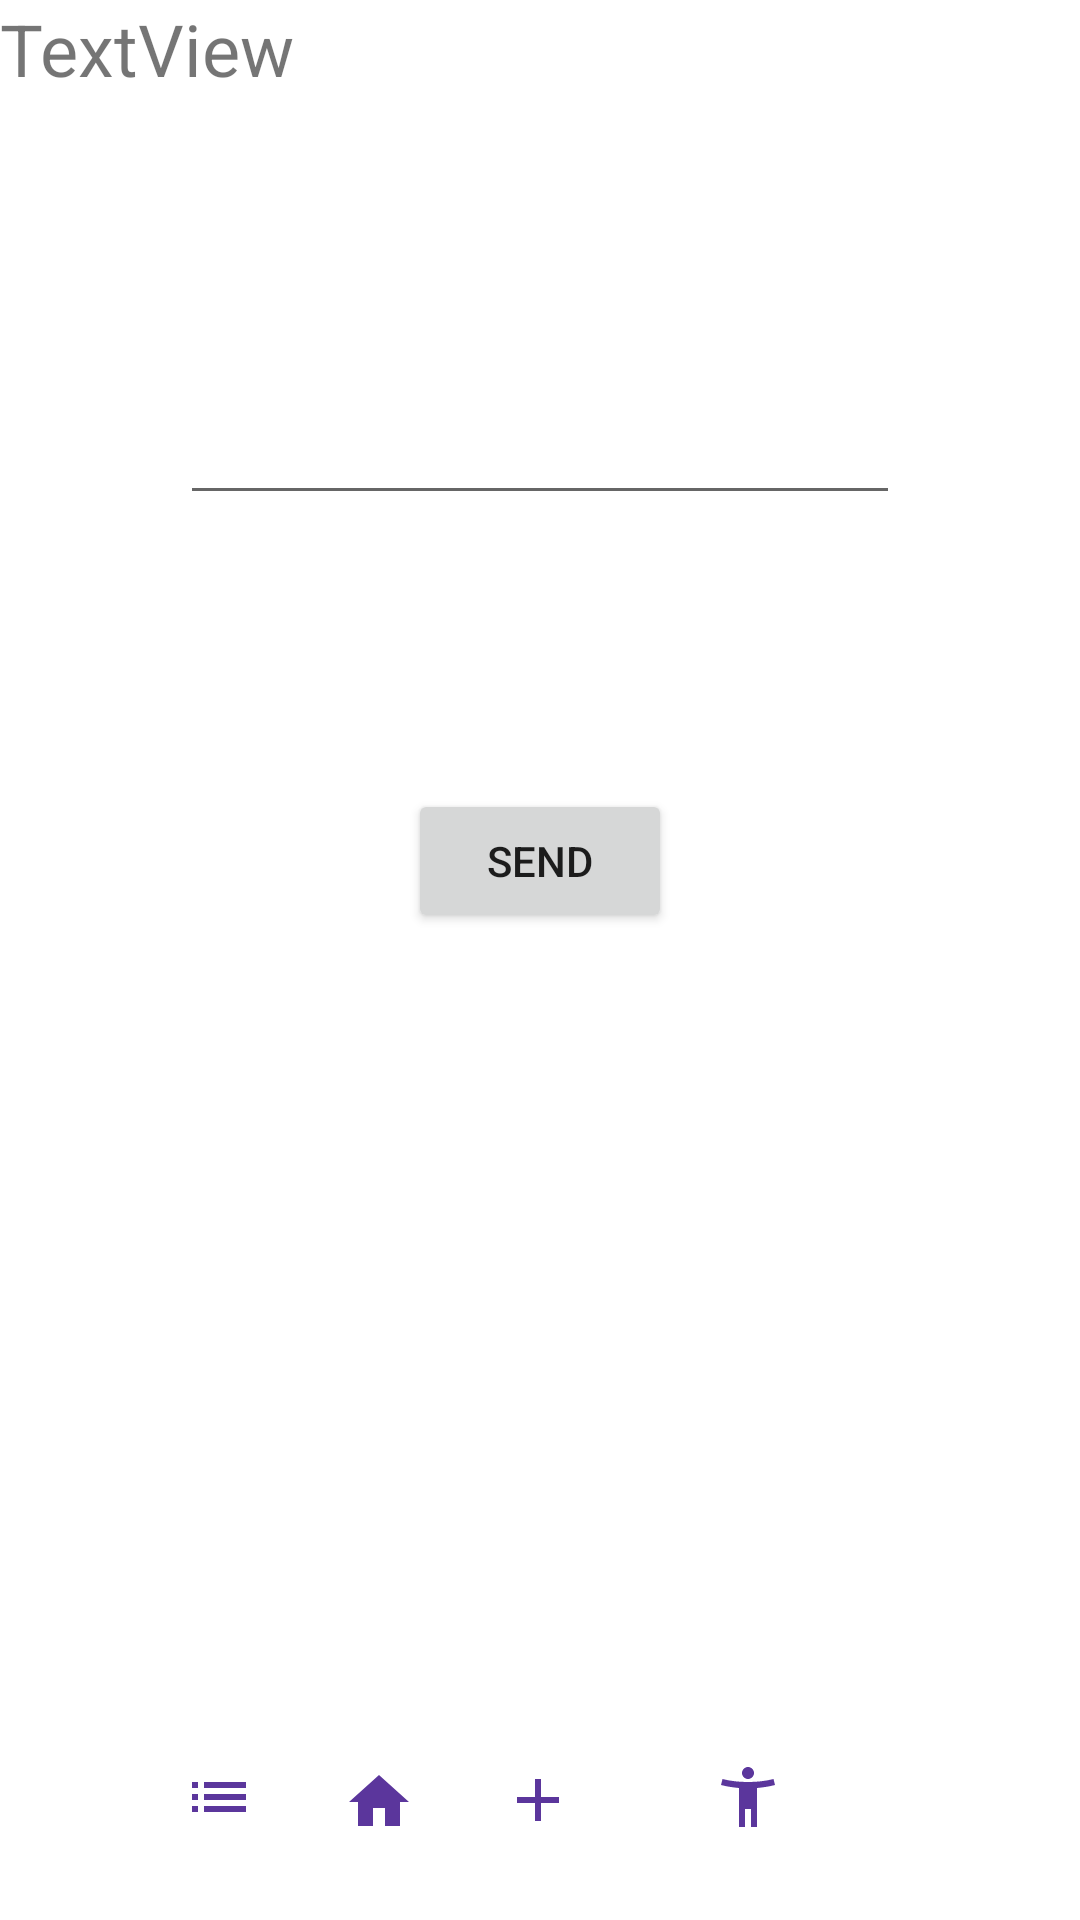

Icons on this 1080×1920 Android screen, each with its box as (x1, y1, x2, y2):
feed: (192, 1782, 246, 1812)
home: (349, 1775, 409, 1826)
post: (517, 1779, 559, 1821)
